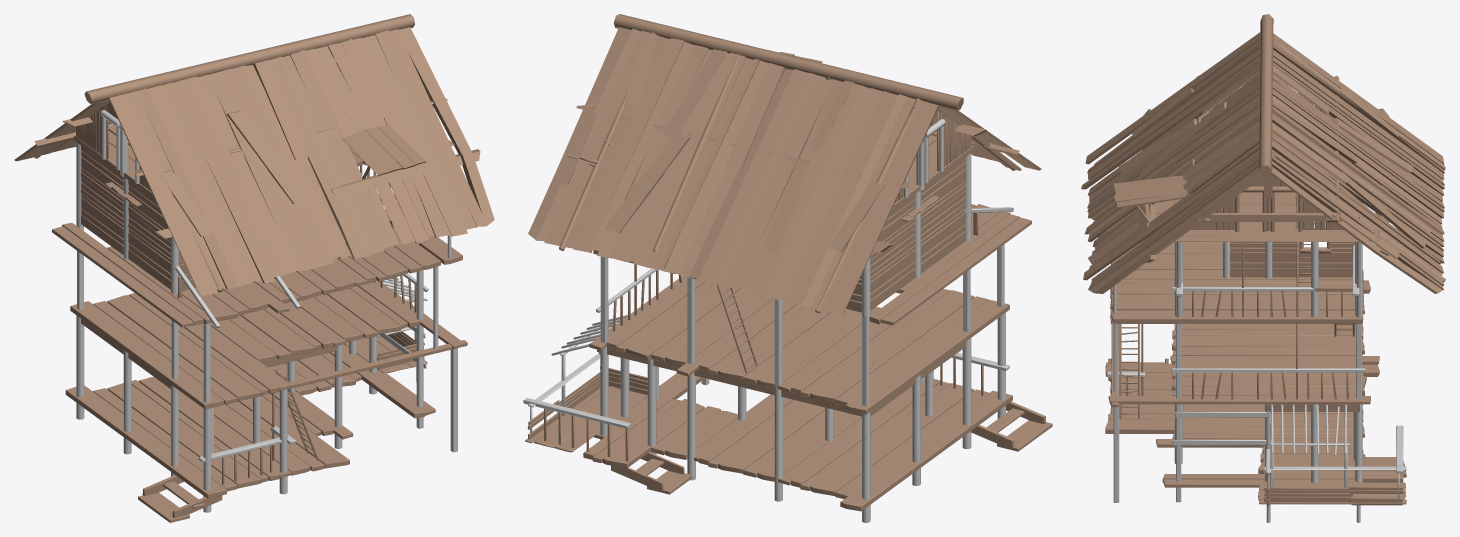
Rendered from -LOD0_hut_003.fbx.
3 renders of one model, left to right at view 1: azimuth 30°, elevation 25°; view 2: azimuth 150°, elevation 25°; view 3: azimuth 270°, elevation 25°, orthographic. The views are drawn at different scales.
Visible parts, largest first — view 1: Roof, Cylinder.006, Cylinder.001; view 2: Cylinder.006, Roof, Cylinder.001; view 3: Cylinder.006, Roof, Cylinder.001.
Part boxes in pixels (x1,y1,x2,y2): Roof: (14,14,494,296); Cylinder.006: (34,63,467,522); Cylinder.001: (76,110,457,512); Cylinder.006: (525,32,1052,511); Roof: (528,14,1041,314); Cylinder.001: (523,119,1013,522); Cylinder.006: (1091,38,1445,506); Roof: (1081,14,1445,293); Cylinder.001: (1107,92,1406,522).
Bounding box in the file's own units: 1686 × 1733 × 1621.
